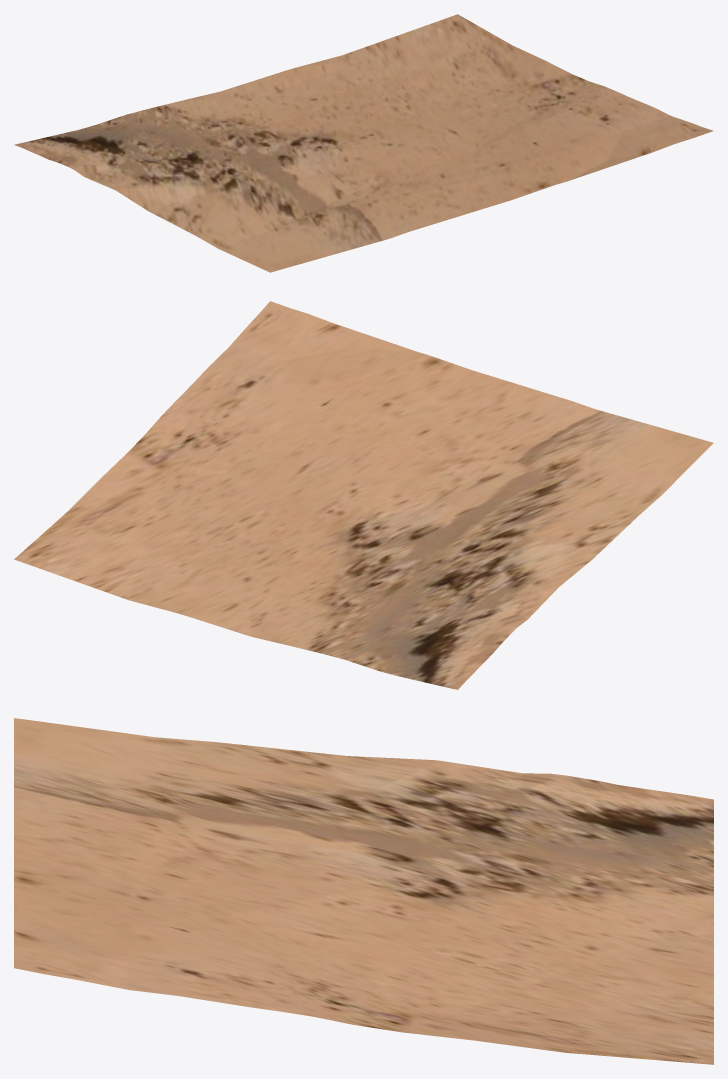
3 views of the same model, one above another, from view 1: azimuth 30°, elevation 25°; view 2: azimuth 150°, elevation 25°; view 3: azimuth 270°, elevation 25° (orthographic). The views are drawn at different scales.
Size of the model in its own units: 2.09 by 0.4222 by 2.09.
Materials: 3 (3 with a texture image).
